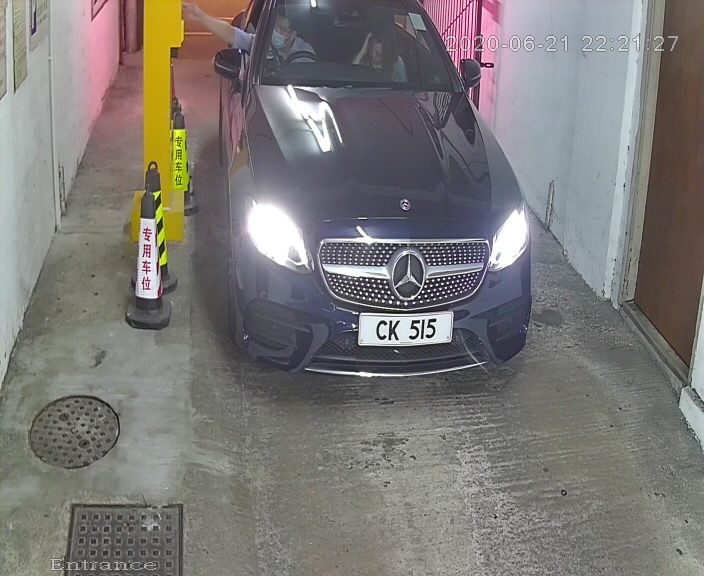privatecar: (200, 1, 554, 417)
